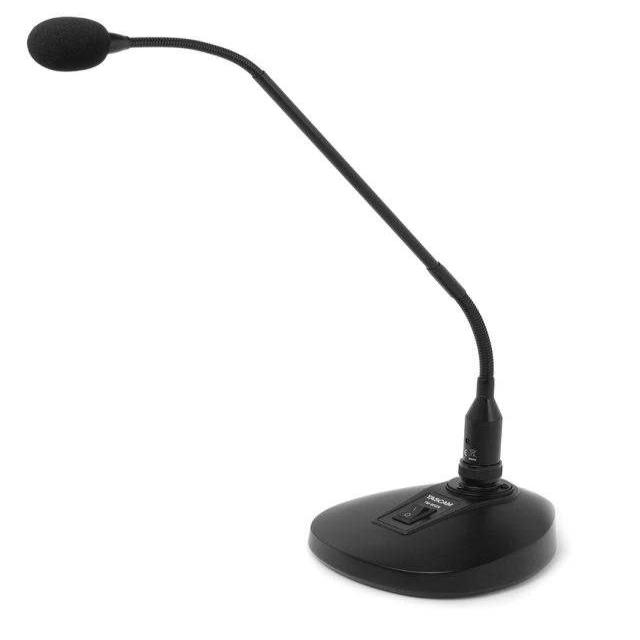microphone: (25, 16, 229, 80)
